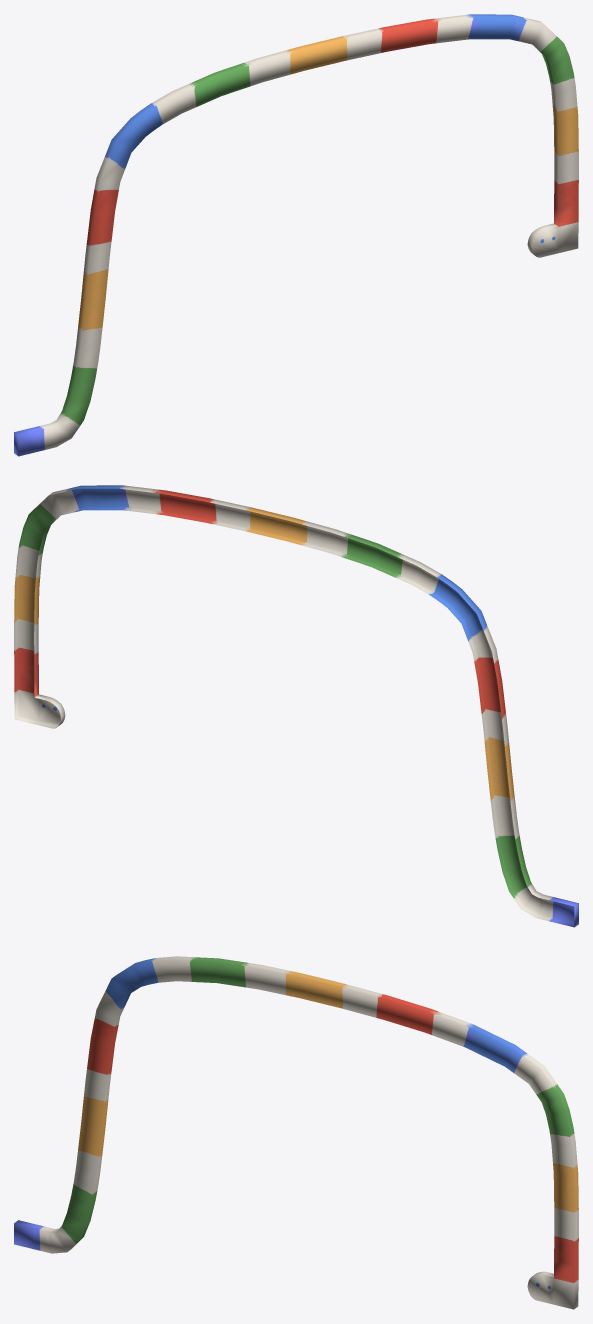
Rendered from Light_Wire.fbx.
3 renders of one model, top to bottom at view 1: azimuth 30°, elevation 25°; view 2: azimuth 150°, elevation 25°; view 3: azimuth 330°, elevation 25°, orthographic.
Visible parts, largest first — view 1: pp-wire.002; view 2: pp-wire.002; view 3: pp-wire.002.
Part boxes in pixels (left/top/right/bottom): pp-wire.002: left=14, top=14, right=578, bottom=456; pp-wire.002: left=14, top=485, right=578, bottom=927; pp-wire.002: left=14, top=956, right=578, bottom=1309.
Bounding box in the file's own units: 418 × 240 × 5.82.
Materials: 1 (1 with a texture image).
